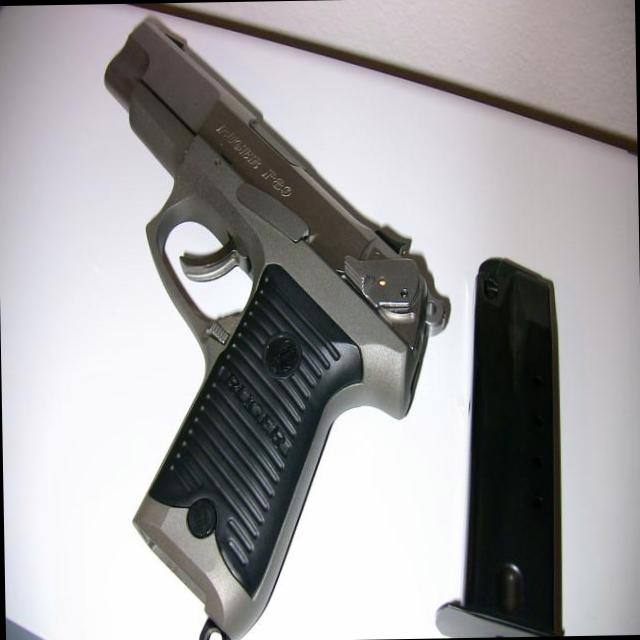Gun: (105, 17, 449, 640)
